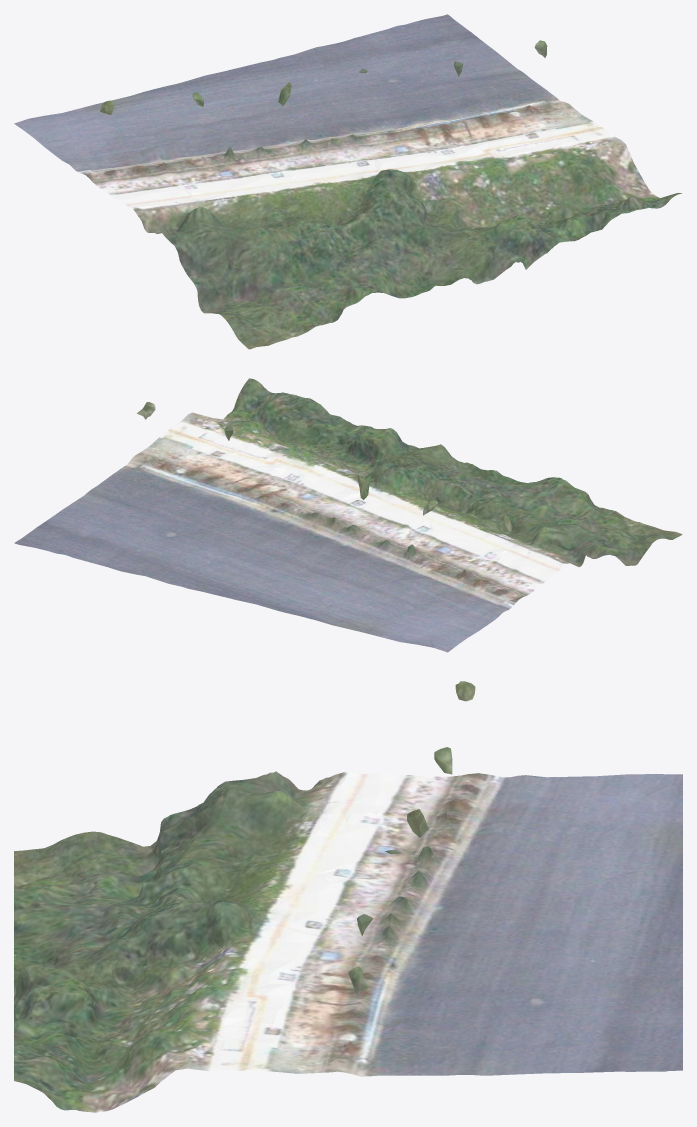
File: Tile_+001_+008_L22_00033000.glb
The picture shows the model from 3 angles, top to bottom: view 1: azimuth 30°, elevation 25°; view 2: azimuth 150°, elevation 25°; view 3: azimuth 270°, elevation 25°; orthographic projection. The views are drawn at different scales.
Visible parts, largest first — view 1: rtc; view 2: rtc; view 3: rtc.
Part boxes in pixels (x1,y1,x2,y2): rtc: (14, 14, 681, 349); rtc: (14, 378, 682, 652); rtc: (14, 681, 682, 1112).
Size of the model in its own units: 25.59 by 7.29 by 24.03.
1 material, 1 textured.
